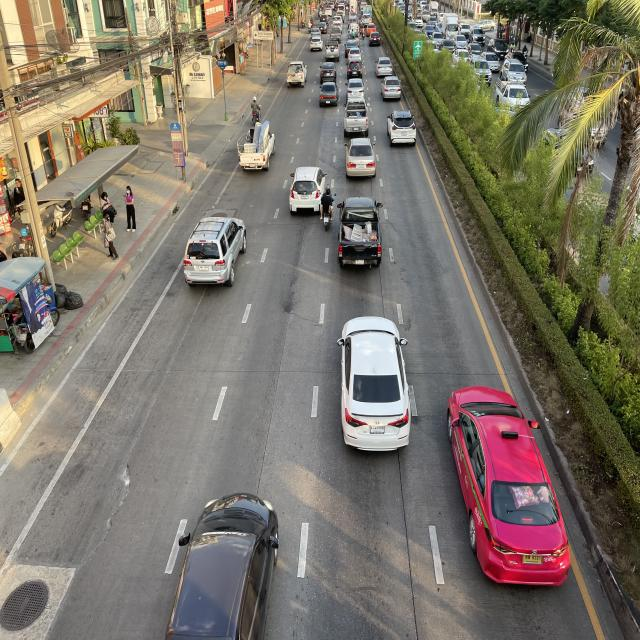bike: (318, 183, 337, 233), (249, 94, 262, 125)
car: (447, 377, 572, 589), (162, 485, 284, 640), (336, 308, 414, 458), (181, 210, 249, 292), (336, 194, 383, 270), (288, 165, 328, 217), (342, 136, 378, 180), (386, 109, 418, 148), (342, 98, 371, 136)
truck: (236, 119, 277, 176)
